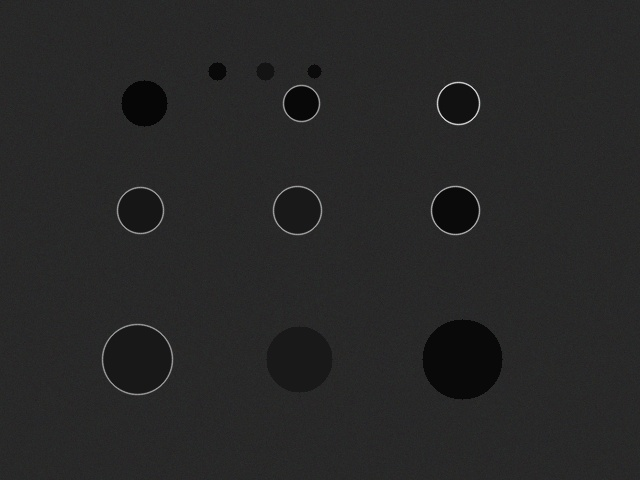hole: (422, 319, 502, 399), (102, 324, 172, 394), (266, 326, 332, 392), (273, 186, 321, 234), (431, 186, 479, 234), (121, 80, 167, 126), (117, 187, 163, 233), (437, 82, 479, 124), (283, 85, 319, 121), (208, 62, 226, 80), (256, 62, 274, 80), (307, 64, 321, 78)
